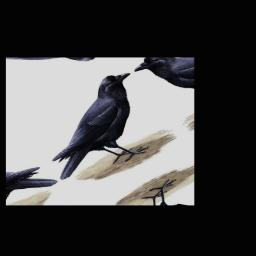Crow: (14, 67, 182, 192)
